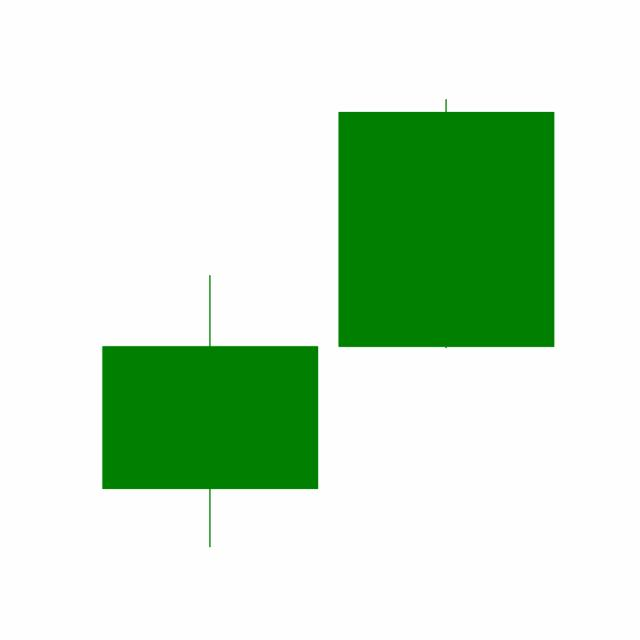Marubozu: (327, 95, 565, 351)
